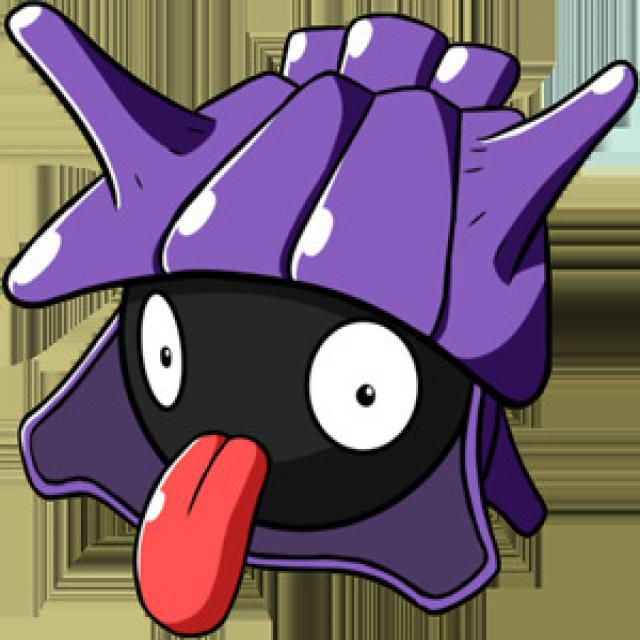Shellder: (26, 14, 548, 608)
